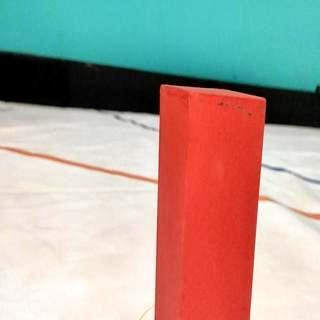redbox: (155, 82, 267, 320)
